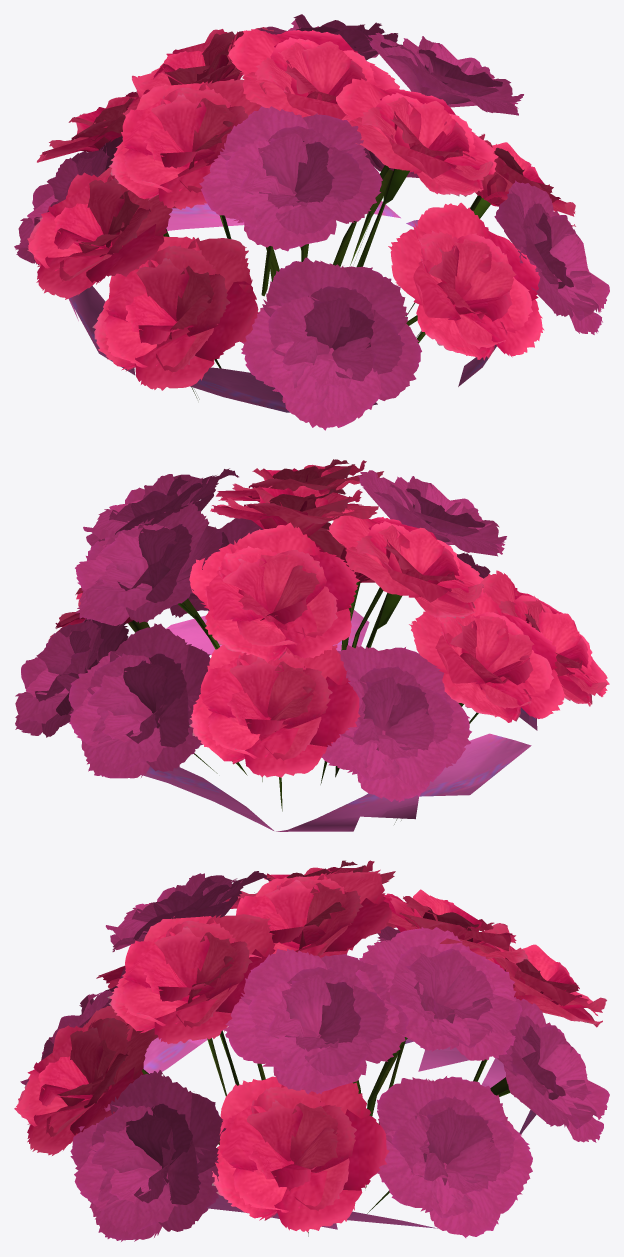
3 renders of one model, top to bottom at view 1: azimuth 30°, elevation 25°; view 2: azimuth 150°, elevation 25°; view 3: azimuth 270°, elevation 25°, orthographic. The views are drawn at different scales.
Visible parts, largest first — view 1: 78ec3368; view 2: 78ec3368; view 3: 78ec3368.
Boxes of the visible parts, <box> form: 78ec3368: <box>14,14,609,430</box>; 78ec3368: <box>15,459,609,831</box>; 78ec3368: <box>14,860,609,1241</box>.
Size of the model in its own units: 0.1305 by 0.0801 by 0.1283.
Materials: 4 (4 with a texture image).
